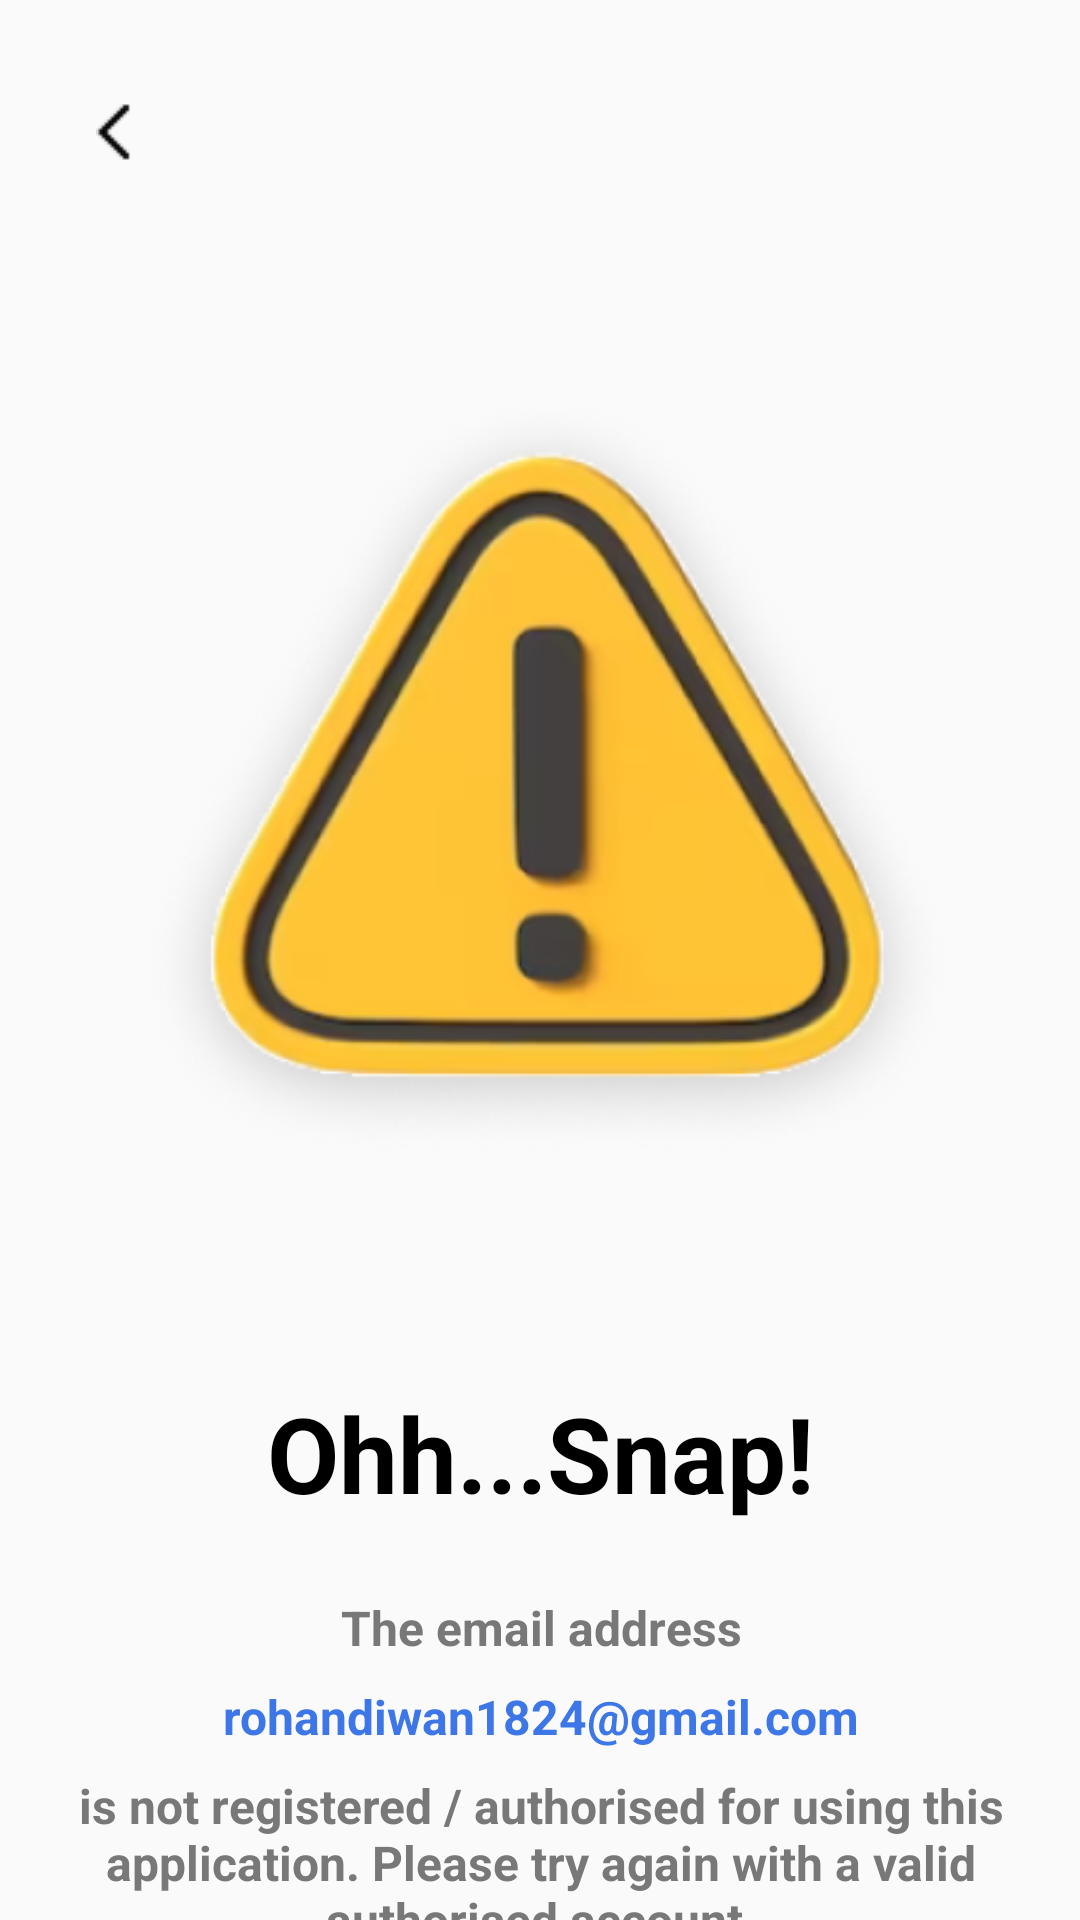

Named icons in this screenshot (1080w x 1920h) and their bounding boxes, (x1, y1, x2, y2):
back: (96, 104, 130, 160)
